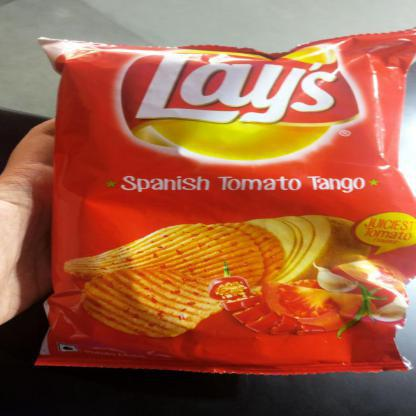tangy_tomato: (33, 24, 415, 383)
